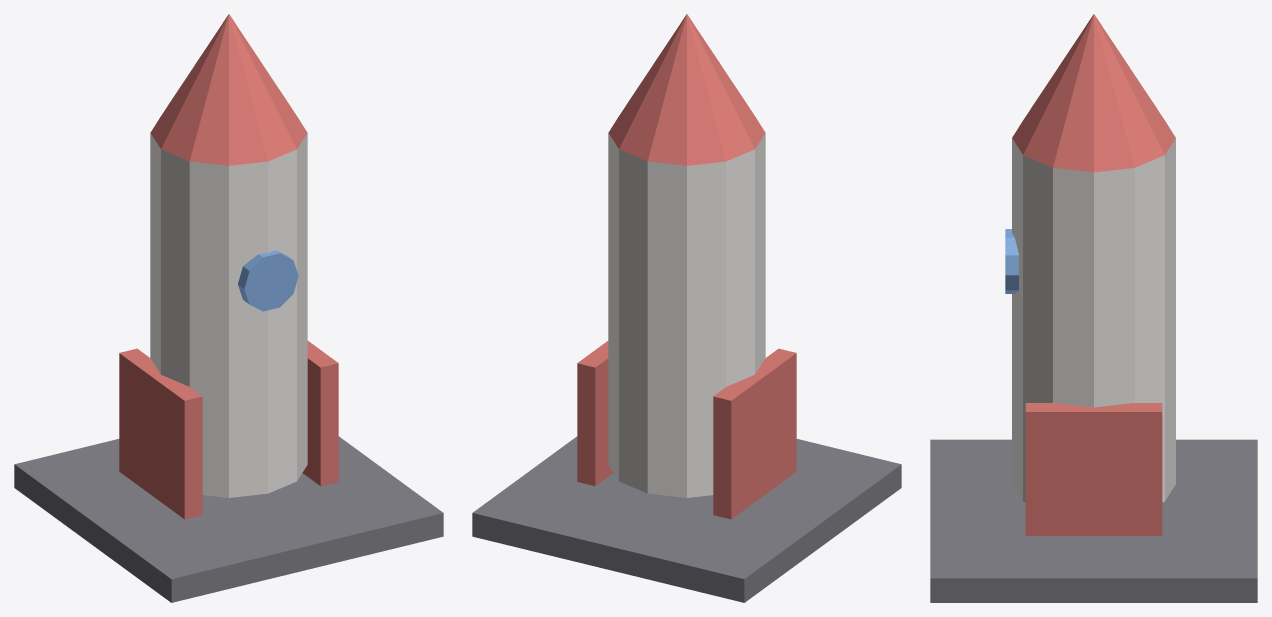
The model's file is despegue.glb.
The picture shows the model from 3 angles, left to right: view 1: azimuth 30°, elevation 25°; view 2: azimuth 150°, elevation 25°; view 3: azimuth 270°, elevation 25°; orthographic projection. The views are drawn at different scales.
Parts seen in each view (by area): view 1: cohete, plataforma; view 2: cohete, plataforma; view 3: cohete, plataforma.
Boxes of the visible parts, box(x1,y1,x2,y2) form: cohete: box(119, 14, 338, 519); plataforma: box(14, 436, 443, 602); cohete: box(577, 14, 796, 519); plataforma: box(472, 436, 901, 602); cohete: box(1005, 14, 1175, 535); plataforma: box(930, 439, 1257, 602).
Size of the model in its own units: 1.2 by 2.1 by 1.2.
